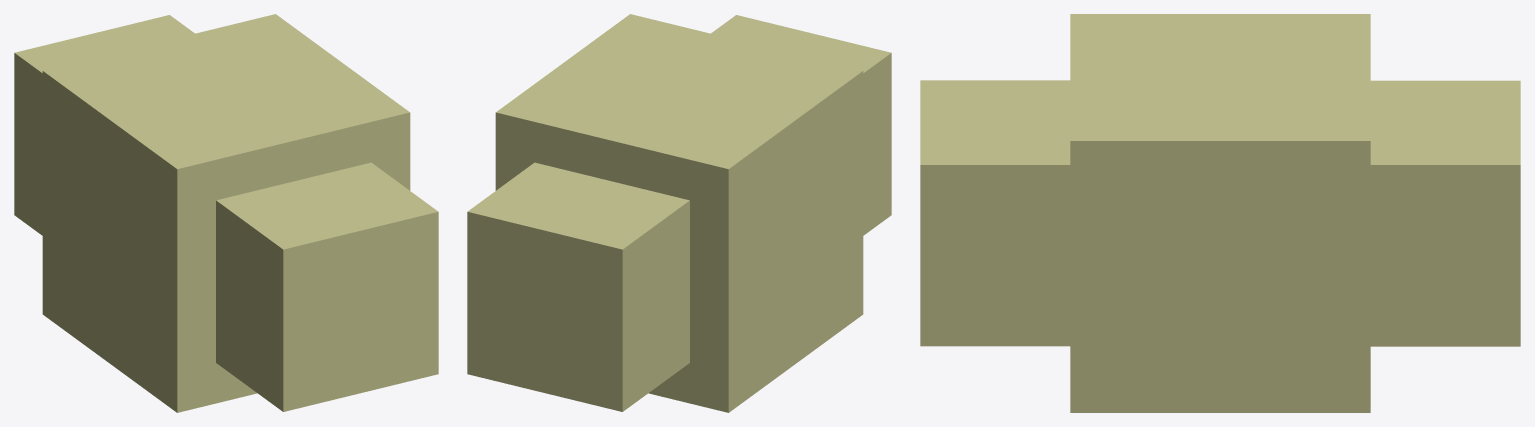
File: GroupedLods.fbx
3 renders of one model, left to right at view 1: azimuth 30°, elevation 25°; view 2: azimuth 150°, elevation 25°; view 3: azimuth 270°, elevation 25°, orthographic. The views are drawn at different scales.
Visible parts, largest first — view 1: Part_C, Part_A, Part_B; view 2: Part_C, Part_B, Part_A; view 3: Part_C, Part_A, Part_B.
Boxes of the visible parts, bbox=[...] form: Part_C: bbox=[42, 14, 410, 412]; Part_A: bbox=[216, 162, 438, 411]; Part_B: bbox=[14, 15, 194, 235]; Part_C: bbox=[495, 14, 863, 412]; Part_B: bbox=[467, 162, 689, 411]; Part_A: bbox=[711, 15, 891, 235]; Part_C: bbox=[1070, 14, 1370, 412]; Part_A: bbox=[920, 80, 1070, 346]; Part_B: bbox=[1370, 80, 1520, 346].
Bounding box in the file's own units: 150 × 150 × 300.
